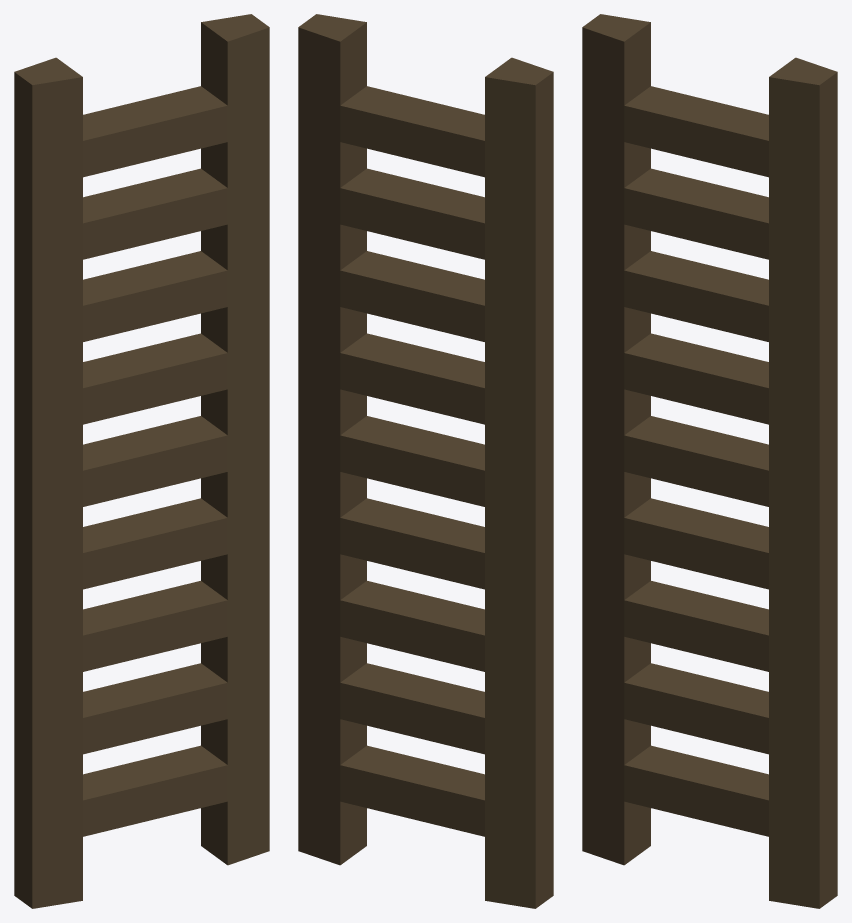
The model's file is Ladder.fbx.
The picture shows the model from 3 angles, left to right: view 1: azimuth 30°, elevation 25°; view 2: azimuth 150°, elevation 25°; view 3: azimuth 330°, elevation 25°; orthographic projection.
Visible parts, largest first — view 1: Ladder; view 2: Ladder; view 3: Ladder.
Part boxes in pixels (box(x1,y1,x2,y2)): Ladder: box(14, 14, 269, 908); Ladder: box(298, 14, 553, 908); Ladder: box(582, 14, 837, 908).
Bounding box in the file's own units: 2.05 × 0.3996 × 6.79.
